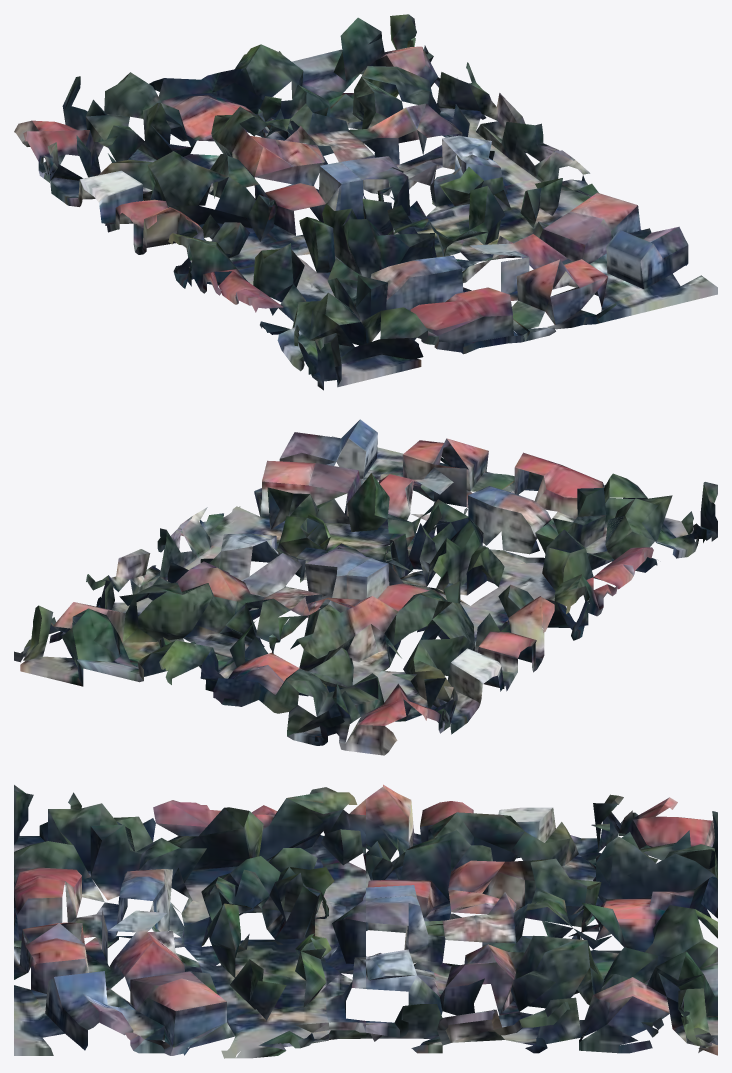
The picture shows the model from 3 angles, top to bottom: view 1: azimuth 30°, elevation 25°; view 2: azimuth 150°, elevation 25°; view 3: azimuth 270°, elevation 25°; orthographic projection. The views are drawn at different scales.
Visible parts, largest first — view 1: 304362727043617254_0; view 2: 304362727043617254_0; view 3: 304362727043617254_0.
Part boxes in pixels (x1,y1,x2,y2): 304362727043617254_0: [14, 14, 717, 390]; 304362727043617254_0: [14, 419, 717, 755]; 304362727043617254_0: [14, 784, 717, 1058].
Bounding box in the file's own units: 111 × 19.72 × 153.
Materials: 1 (1 with a texture image).
